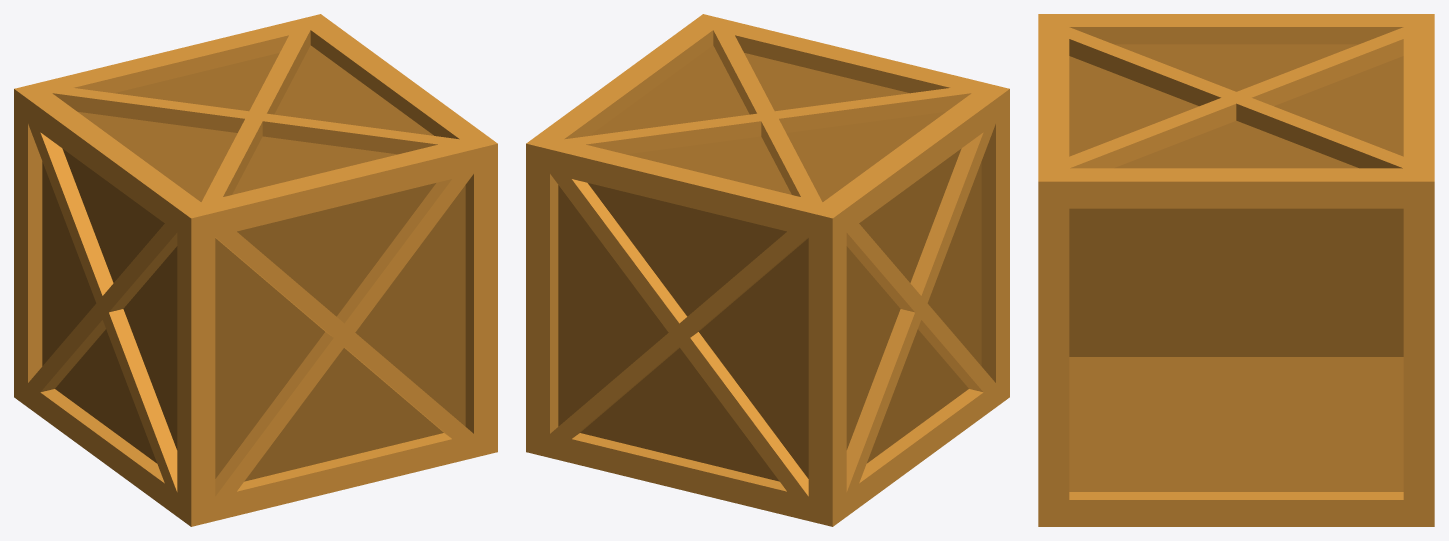
File: Crate_open.fbx
The picture shows the model from 3 angles, left to right: view 1: azimuth 30°, elevation 25°; view 2: azimuth 150°, elevation 25°; view 3: azimuth 270°, elevation 25°; orthographic projection. The views are drawn at different scales.
Parts seen in each view (by area): view 1: pCube50; view 2: pCube50; view 3: pCube50.
Part boxes in pixels (x1,y1,x2,y2): pCube50: [14, 14, 497, 526]; pCube50: [526, 14, 1009, 526]; pCube50: [1038, 14, 1434, 526].
Bounding box in the file's own units: 2 × 1.92 × 2.
